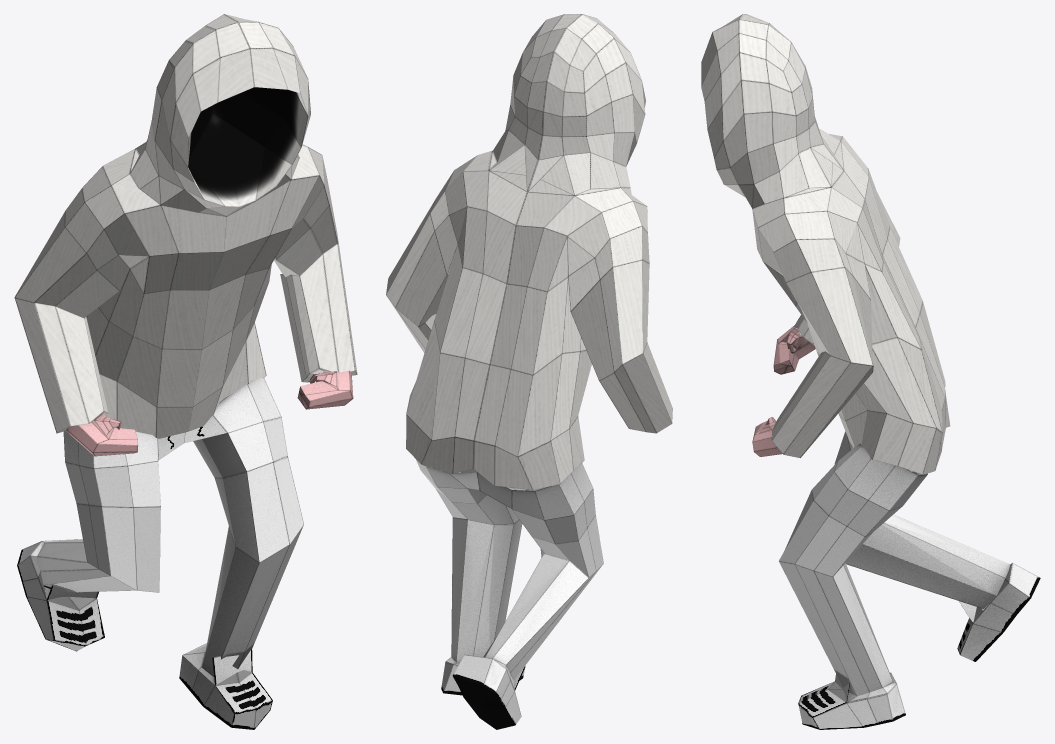
File: Shadowmanv_000021.obj
The picture shows the model from 3 angles, left to right: view 1: azimuth 30°, elevation 25°; view 2: azimuth 150°, elevation 25°; view 3: azimuth 270°, elevation 25°; orthographic projection. The views are drawn at different scales.
Visible parts, largest first — view 1: Cube.000; view 2: Cube.000; view 3: Cube.000.
Boxes of the visible parts, box(x1,y1,x2,y2) form: Cube.000: box(14, 14, 357, 729); Cube.000: box(386, 14, 672, 729); Cube.000: box(701, 14, 1040, 729).
Bounding box in the file's own units: 4.74 × 11 × 4.96.
